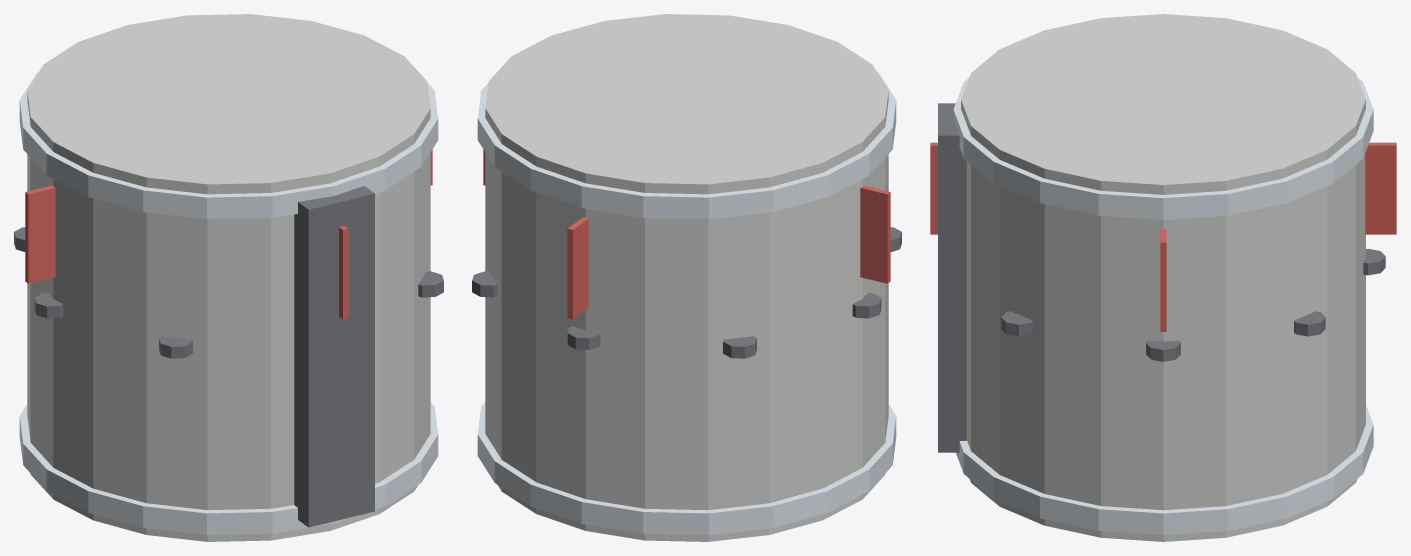
Rendered from rocket-interstage.glb.
The picture shows the model from 3 angles, left to right: view 1: azimuth 30°, elevation 25°; view 2: azimuth 150°, elevation 25°; view 3: azimuth 270°, elevation 25°; orthographic projection.
Visible parts, largest first — view 1: interstage; view 2: interstage; view 3: interstage.
Boxes of the visible parts, <box> form: interstage: <box>14,14,443,541</box>; interstage: <box>472,14,901,541</box>; interstage: <box>930,14,1396,541</box>.
Size of the model in its own units: 4.26 by 3.6 by 4.26.
